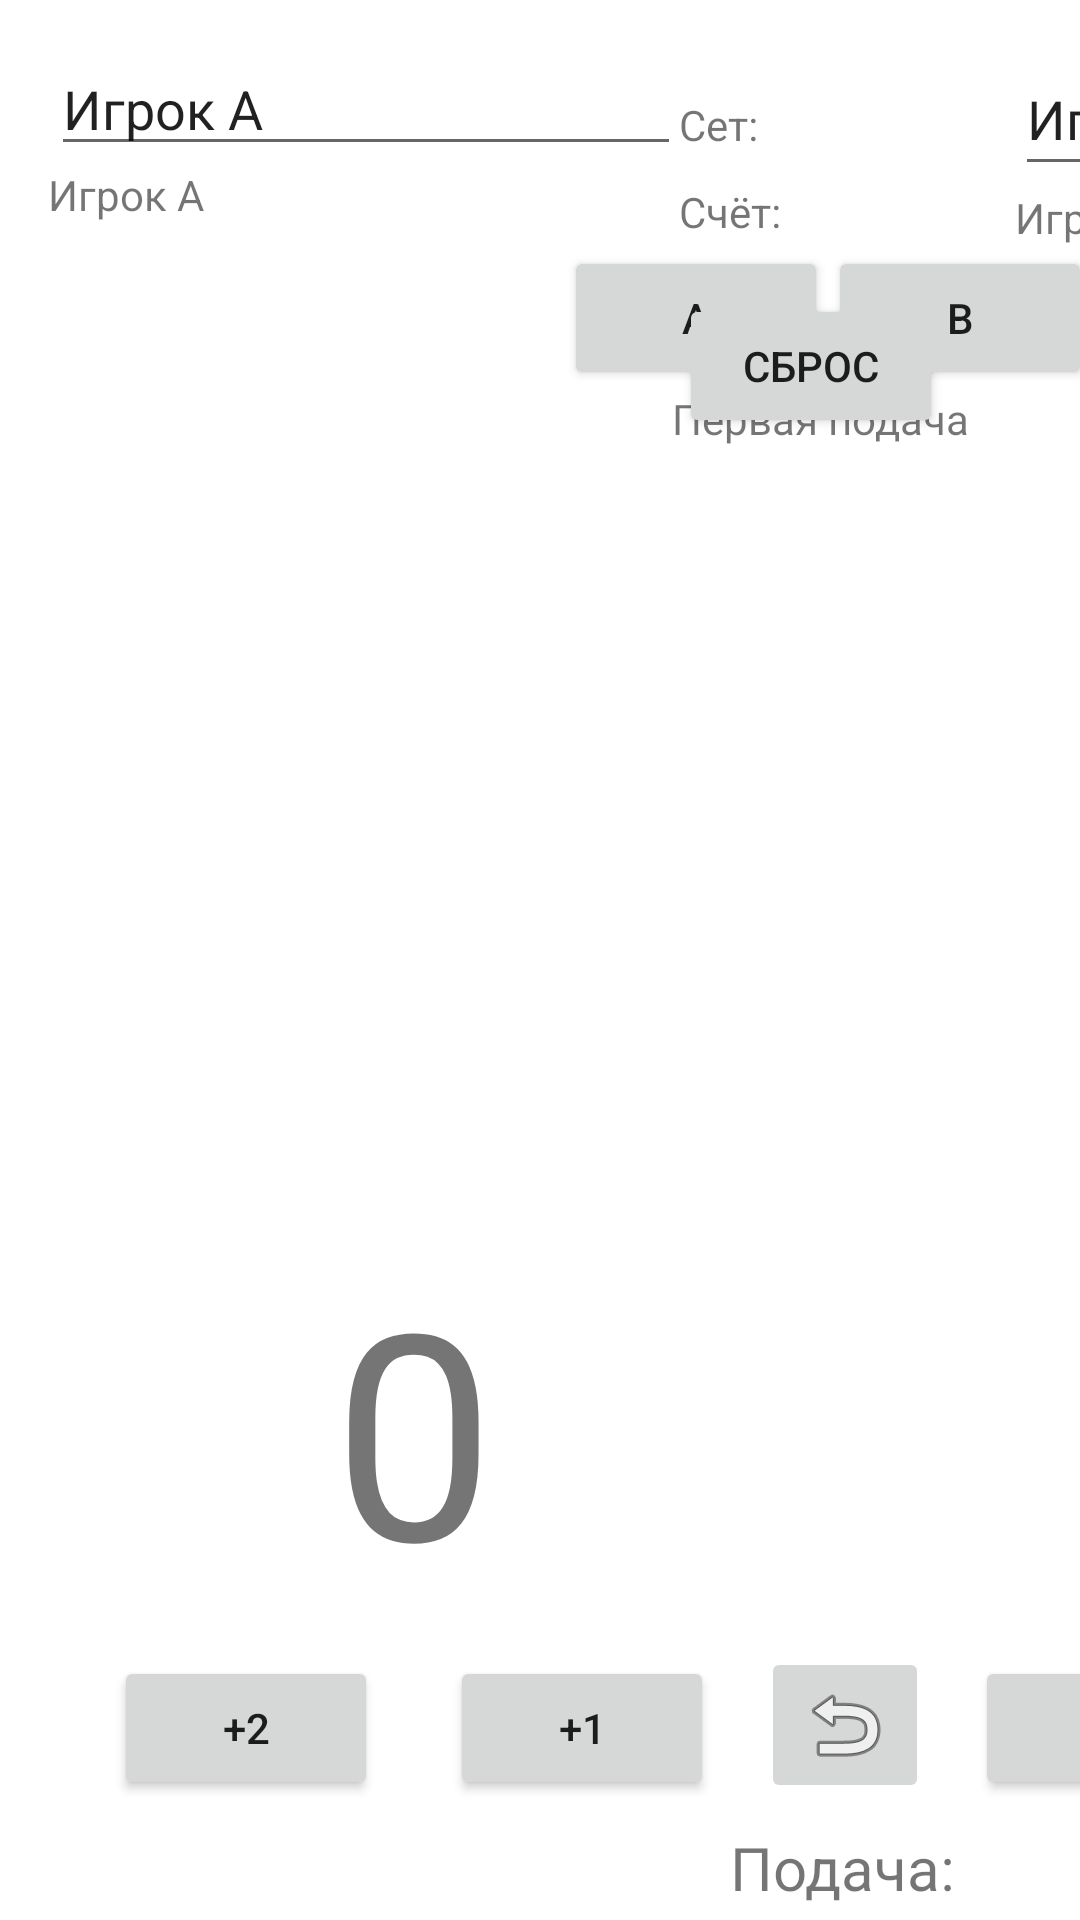

Named icons in this screenshot (1080*1920) and their bounding boxes, (left=x1, top=y1, right=x2, bottom=y2):
revert: (left=773, top=1665, right=917, bottom=1785)
